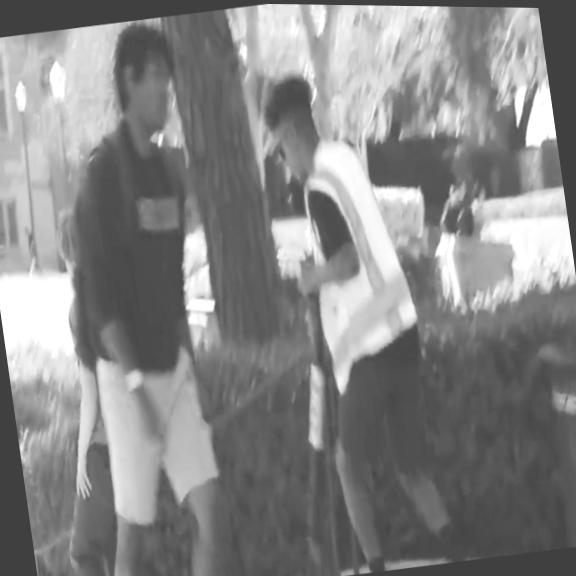safety_vest: (297, 128, 429, 402)
